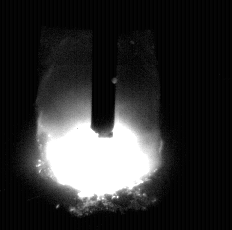arame: (92, 0, 117, 138)
poca: (38, 0, 164, 230)
